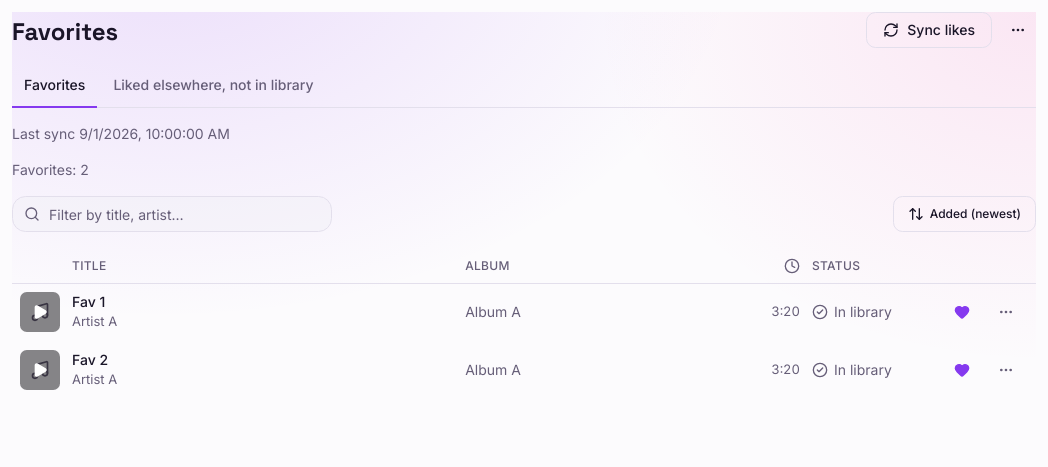
Favorites page › 'Sync likes' starts a run and the button turns busy at once
Click the button "Sync likes" at (929, 30), box [866, 12, 992, 48]
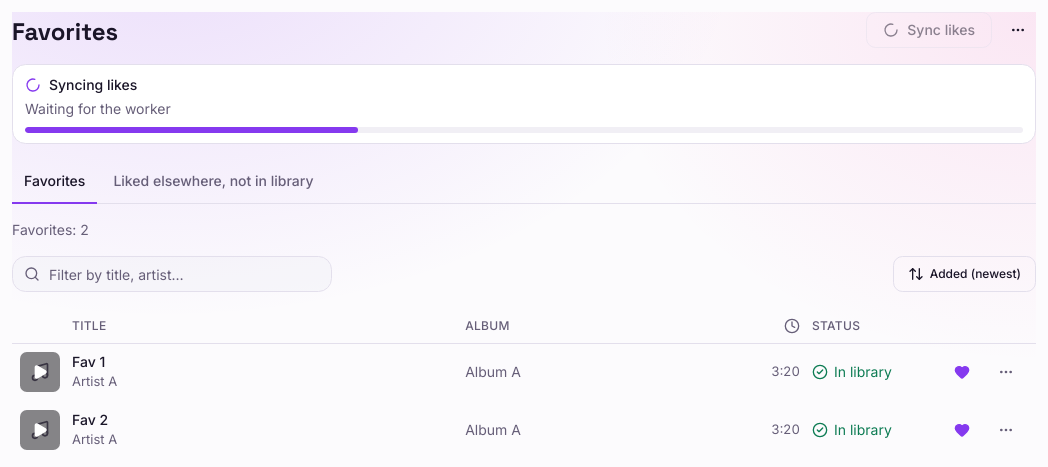
expect the button "Sync likes" is disabled: met, box [866, 12, 992, 48]
